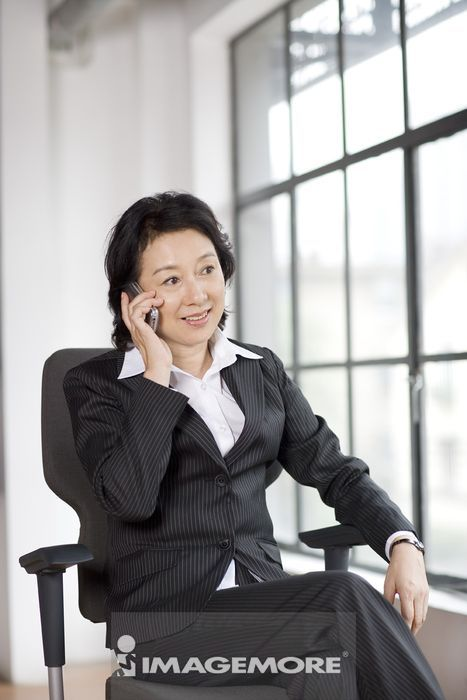phone: (129, 282, 161, 336)
talk: (115, 247, 225, 379)
